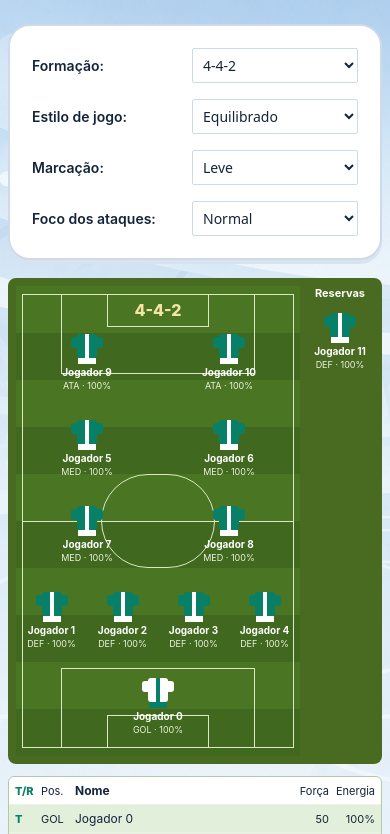
Test case: failed replacement keeps the original starter on the pitch
The width and height of the screenshot is (390, 834).
Expected: the element named "Campo: formação 4-4-2" is shown, [16, 286, 300, 756]
Click the button with aria-label "Substituir Jogador 1".
click(52, 620)  # box [18, 589, 84, 652]
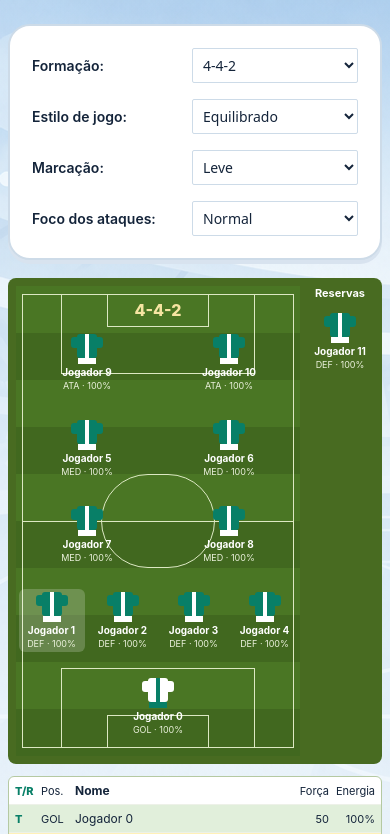
Click the button with aria-label "Reserva Jogador 11".
click(340, 342)  # box [307, 310, 373, 373]
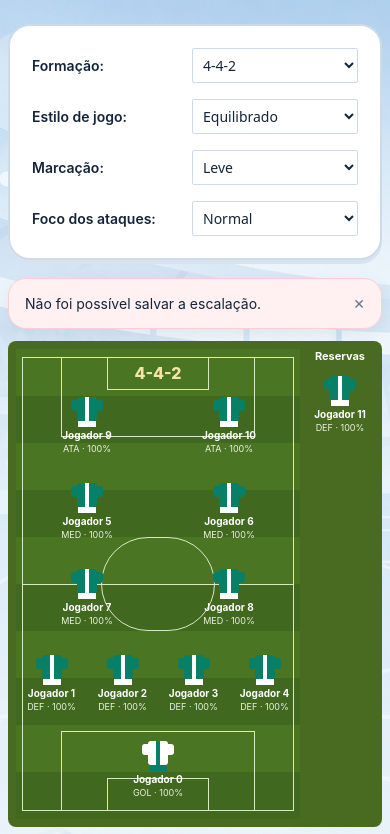
Expected: the button with aria-label "Substituir Jogador 1" is shown, [18, 652, 84, 715]
Expected: the text "Não foi possível salvar a escalação." is shown, [25, 295, 261, 312]
